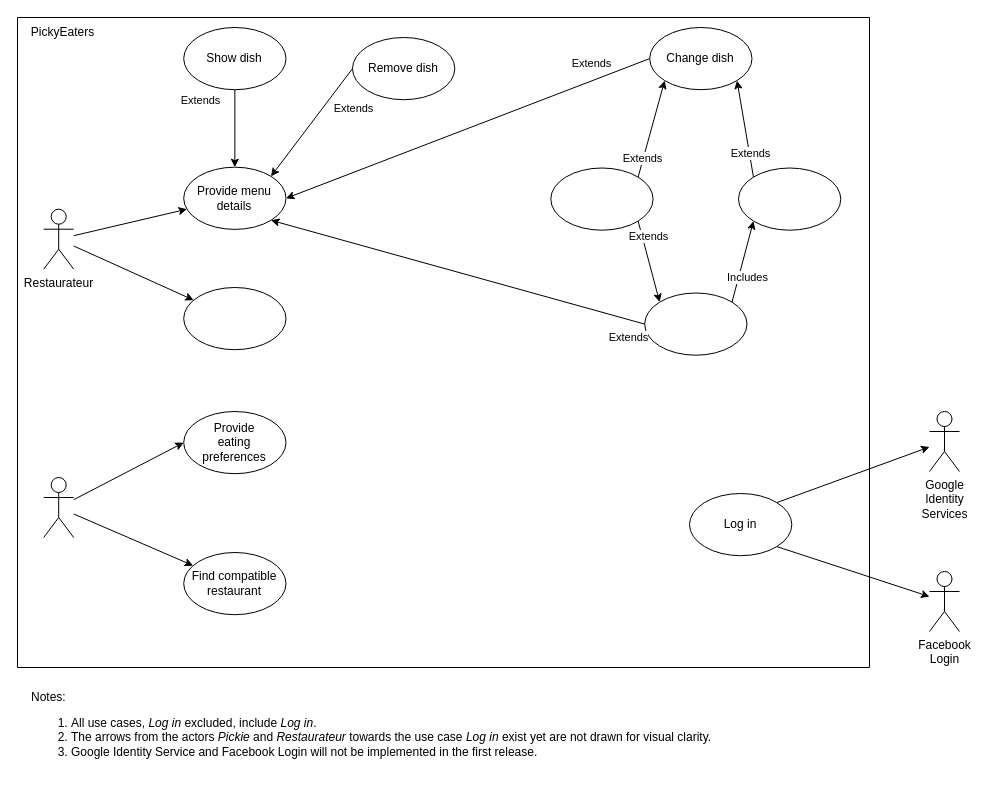
The diagram is 988 pixels wide and 810 high, and some of its shapes have lost their labels. Here are the shapes that lost their labels. From the top down, the box of each, then its label:
(550, 167, 653, 230): Remove dish ingredient
(738, 167, 841, 230): Add dish ingredient
(183, 286, 286, 350): Provide restaurant details
(644, 292, 747, 355): Add dish
(43, 476, 74, 538): Pickie
